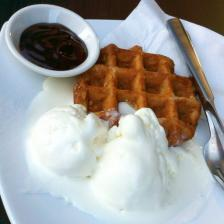ice cream: (24, 102, 180, 218)
waffles: (73, 36, 203, 146)
